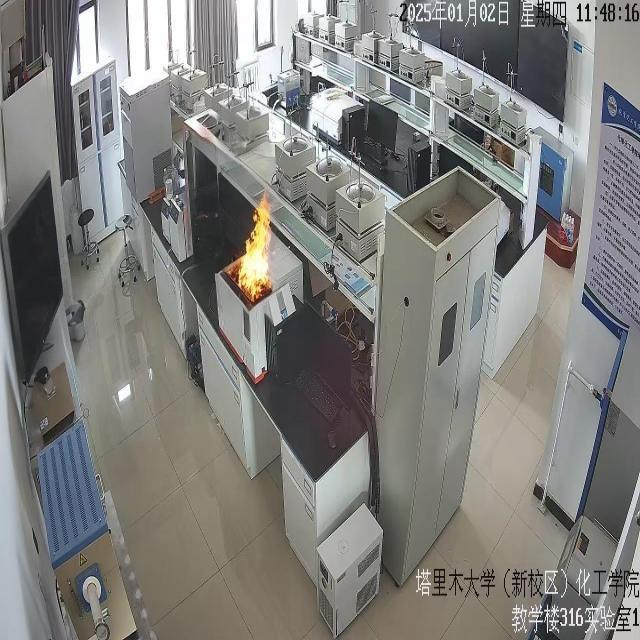smoke: (232, 194, 276, 300)
